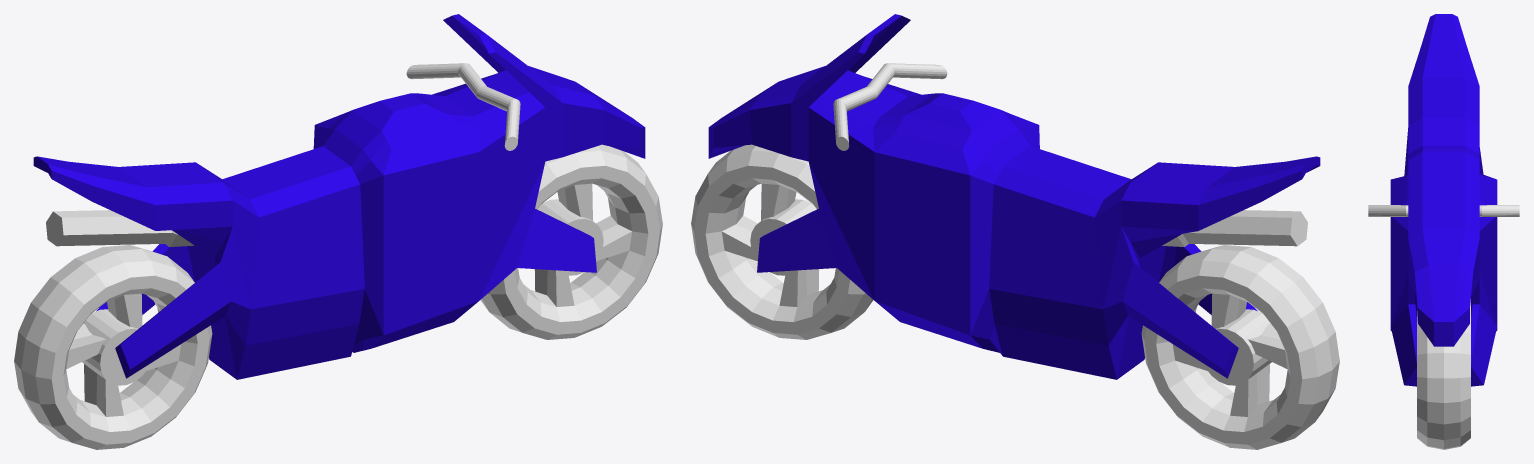
Rendered from Bike.fbx.
3 renders of one model, left to right at view 1: azimuth 30°, elevation 25°; view 2: azimuth 150°, elevation 25°; view 3: azimuth 270°, elevation 25°, orthographic. The views are drawn at different scales.
Visible parts, largest first — view 1: Cube, Torus.001, Torus.000, Cylinder, Cylinder.003, Cylinder.001, Cylinder.002; view 2: Cube, Torus.001, Torus.000, Cylinder, Cylinder.003, Cylinder.001, Cylinder.002; view 3: Cube, Torus.000, Cylinder.003.
Boxes of the visible parts, box(x1,y1,x2,y2) form: Cube: box(33, 14, 645, 379); Torus.001: box(14, 245, 212, 449); Torus.000: box(481, 144, 662, 339); Cylinder: box(46, 210, 194, 246); Cylinder.003: box(406, 63, 520, 150); Cylinder.001: box(82, 309, 149, 385); Cylinder.002: box(537, 199, 603, 275); Cube: box(708, 14, 1320, 379); Torus.001: box(1141, 245, 1339, 449); Torus.000: box(691, 144, 872, 339); Cylinder: box(1162, 210, 1307, 246); Cylinder.003: box(833, 63, 947, 150); Cylinder.001: box(1204, 309, 1271, 385); Cylinder.002: box(750, 199, 816, 275); Cube: box(1390, 14, 1497, 386); Torus.000: box(1417, 299, 1470, 449); Cylinder.003: box(1368, 205, 1519, 216).
Bounding box in the file's own units: 956 × 478 × 256.
